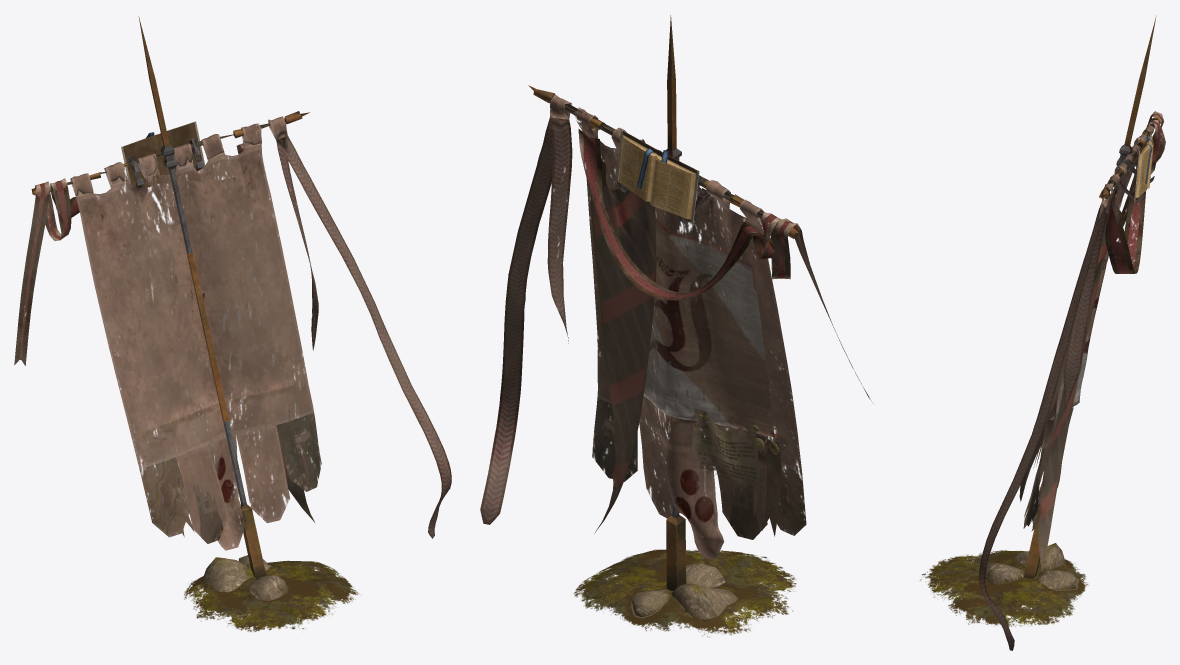
The model's file is warbanner.glb.
The picture shows the model from 3 angles, left to right: view 1: azimuth 30°, elevation 25°; view 2: azimuth 150°, elevation 25°; view 3: azimuth 270°, elevation 25°; orthographic projection. The views are drawn at different scales.
Visible parts, largest first — view 1: Ghost_of_WAR_Seal006_Ghost_of_WAR_Pole_Cloth_MAT_0, Base_Dirt_Ghost_of_WAR_Base_MAT_0, Ghost_of_WAR_Pole_Ghost_of_WAR_Pole_MAT_0, Ghost_of_WAR_Book_Book_MAT_0; view 2: Ghost_of_WAR_Seal006_Ghost_of_WAR_Pole_Cloth_MAT_0, Base_Dirt_Ghost_of_WAR_Base_MAT_0, Ghost_of_WAR_Book_Book_MAT_0, Ghost_of_WAR_Pole_Ghost_of_WAR_Pole_MAT_0; view 3: Ghost_of_WAR_Seal006_Ghost_of_WAR_Pole_Cloth_MAT_0, Base_Dirt_Ghost_of_WAR_Base_MAT_0, Ghost_of_WAR_Pole_Ghost_of_WAR_Pole_MAT_0, Ghost_of_WAR_Book_Book_MAT_0.
Part boxes in pixels (box(x1,y1,x2,y2)): Ghost_of_WAR_Seal006_Ghost_of_WAR_Pole_Cloth_MAT_0: box(14, 116, 451, 550); Base_Dirt_Ghost_of_WAR_Base_MAT_0: box(184, 555, 361, 631); Ghost_of_WAR_Pole_Ghost_of_WAR_Pole_MAT_0: box(31, 16, 309, 578); Ghost_of_WAR_Book_Book_MAT_0: box(121, 121, 205, 187); Ghost_of_WAR_Seal006_Ghost_of_WAR_Pole_Cloth_MAT_0: box(480, 94, 873, 560); Base_Dirt_Ghost_of_WAR_Base_MAT_0: box(573, 549, 796, 637); Ghost_of_WAR_Book_Book_MAT_0: box(615, 130, 699, 223); Ghost_of_WAR_Pole_Ghost_of_WAR_Pole_MAT_0: box(528, 15, 800, 590); Ghost_of_WAR_Seal006_Ghost_of_WAR_Pole_Cloth_MAT_0: box(979, 111, 1165, 650); Base_Dirt_Ghost_of_WAR_Base_MAT_0: box(920, 543, 1088, 626); Ghost_of_WAR_Pole_Ghost_of_WAR_Pole_MAT_0: box(1023, 15, 1160, 578); Ghost_of_WAR_Book_Book_MAT_0: box(1134, 130, 1153, 201).
Size of the model in its own units: 83.08 by 116 by 50.33.
Materials: 4 (4 with a texture image).
